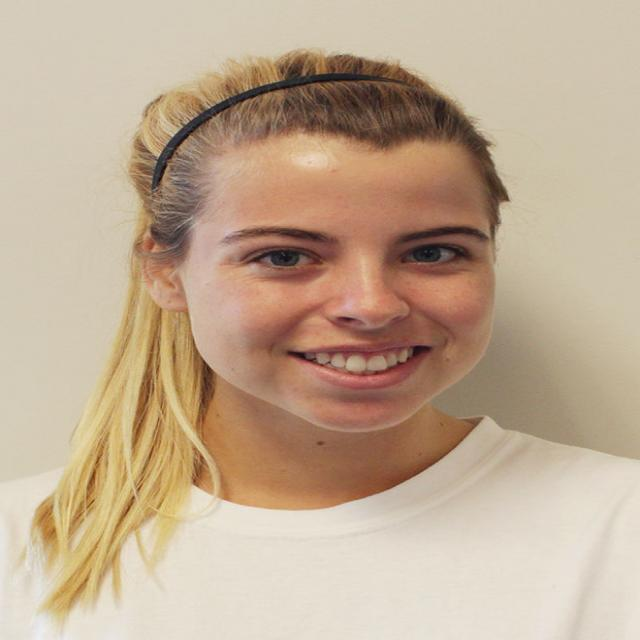earlobe: (154, 285, 189, 313)
eye: (246, 247, 328, 269), (398, 242, 470, 266)
nose: (327, 317, 418, 341)
wholeear: (134, 228, 190, 313)
